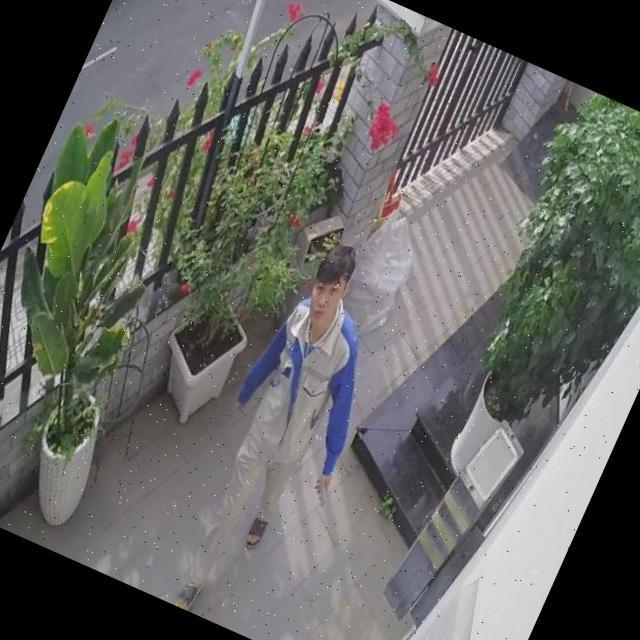person: (149, 227, 423, 640)
